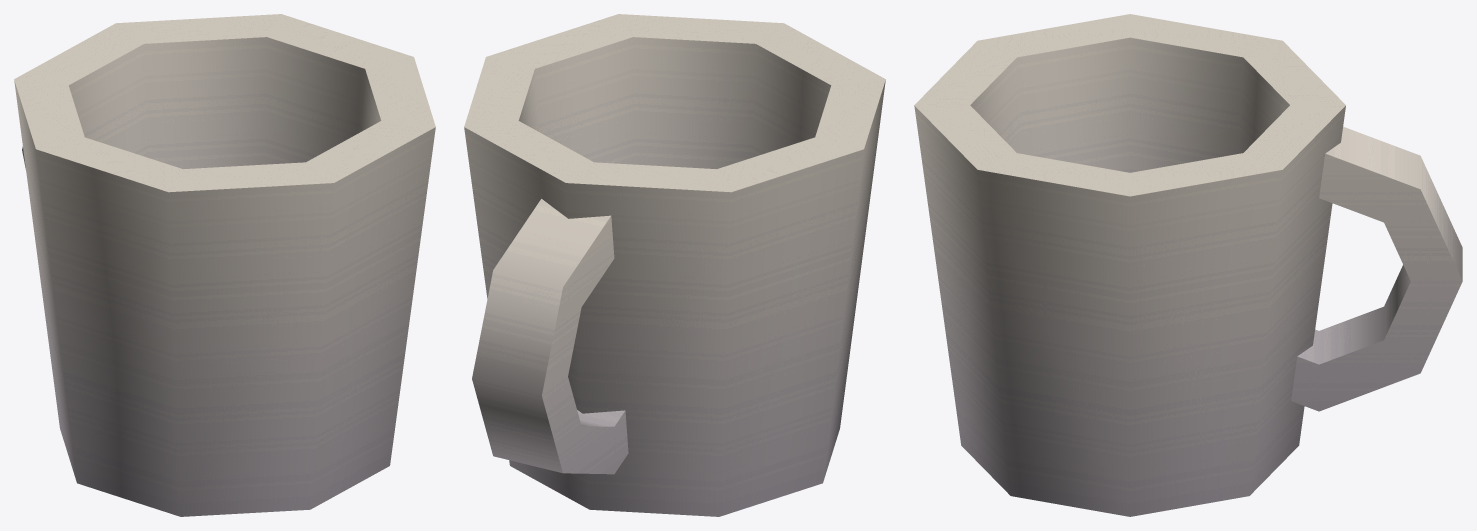
Rendered from mug.glb.
3 renders of one model, left to right at view 1: azimuth 30°, elevation 25°; view 2: azimuth 150°, elevation 25°; view 3: azimuth 270°, elevation 25°, orthographic.
Visible parts, largest first — view 1: cup; view 2: cup; view 3: cup.
Part boxes in pixels (x1=…): cup: x1=14, y1=14, x2=435, y2=516; cup: x1=464, y1=14, x2=885, y2=516; cup: x1=914, y1=14, x2=1462, y2=516.
Bounding box in the file's own units: 0.1093 × 0.095 × 0.1388.
Materials: 1 (1 with a texture image).
